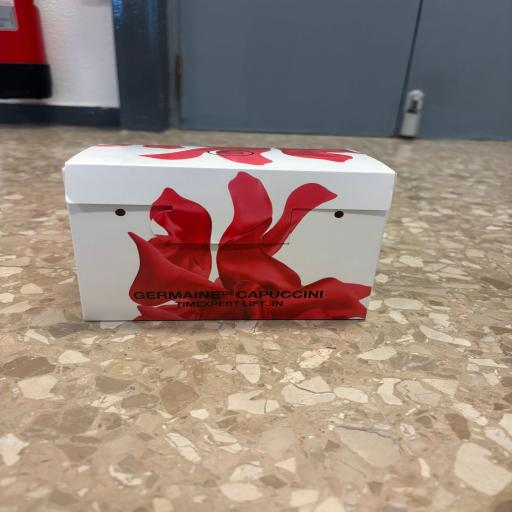caja_2: (63, 144, 396, 326), (63, 143, 396, 320)
